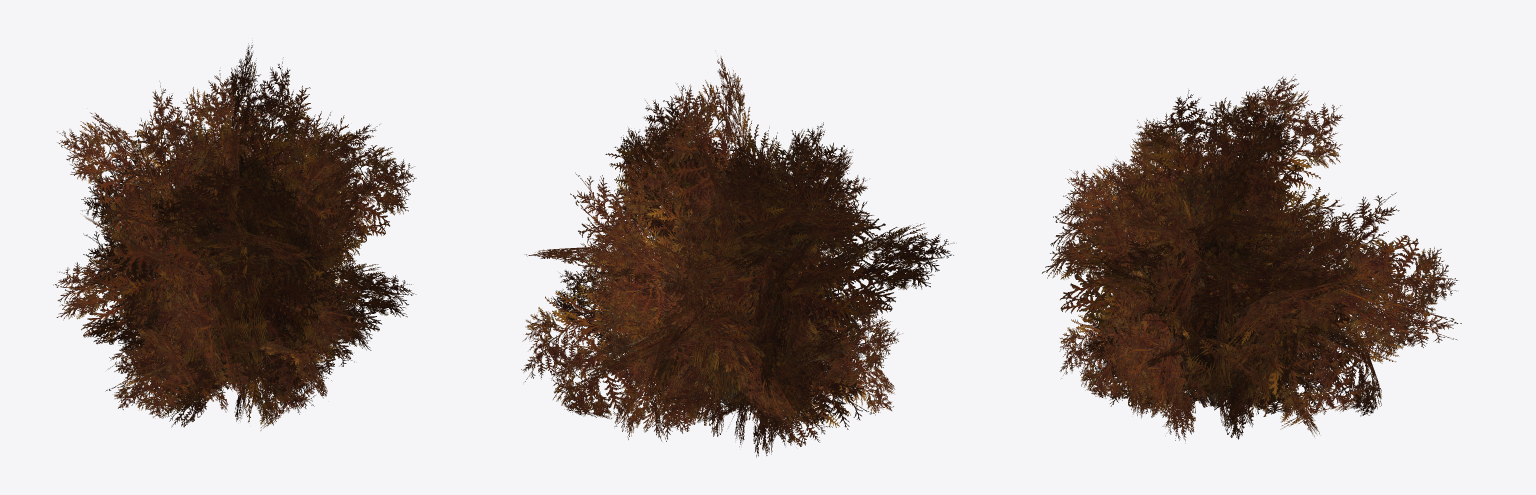
File: bush_02.obj
3 views of the same model, side by side, from view 1: azimuth 30°, elevation 25°; view 2: azimuth 150°, elevation 25°; view 3: azimuth 270°, elevation 25° (orthographic). The views are drawn at different scales.
Visible parts, largest first — view 1: bush_02; view 2: bush_02; view 3: bush_02.
Part boxes in pixels (left/top/right/bottom): bush_02: left=53, top=42, right=416, bottom=430; bush_02: left=521, top=56, right=954, bottom=457; bush_02: left=1042, top=74, right=1461, bottom=443.
Size of the model in its own units: 129 by 131 by 145.
